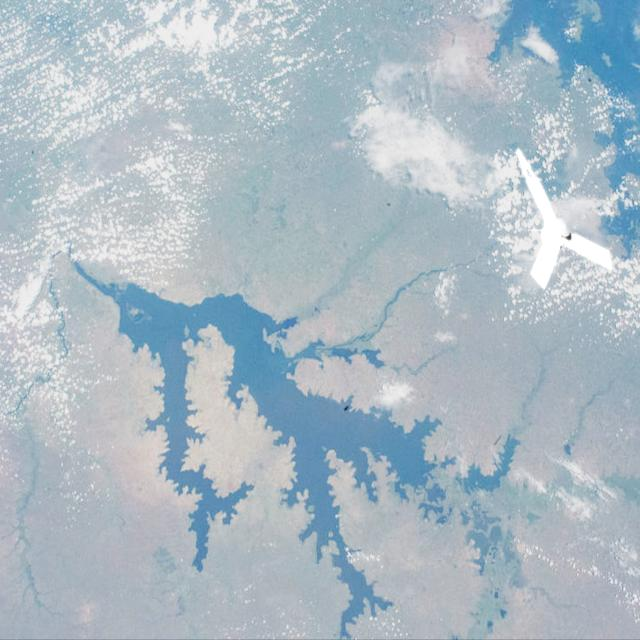satellite: (512, 139, 619, 301)
